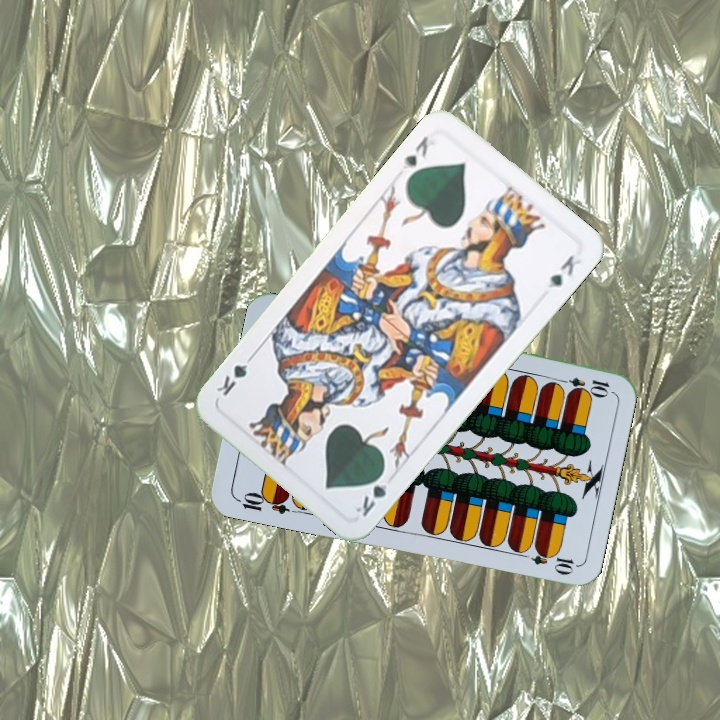E10: (232, 487, 291, 517), (553, 373, 612, 397)
GK: (351, 466, 393, 520), (397, 131, 431, 172)
